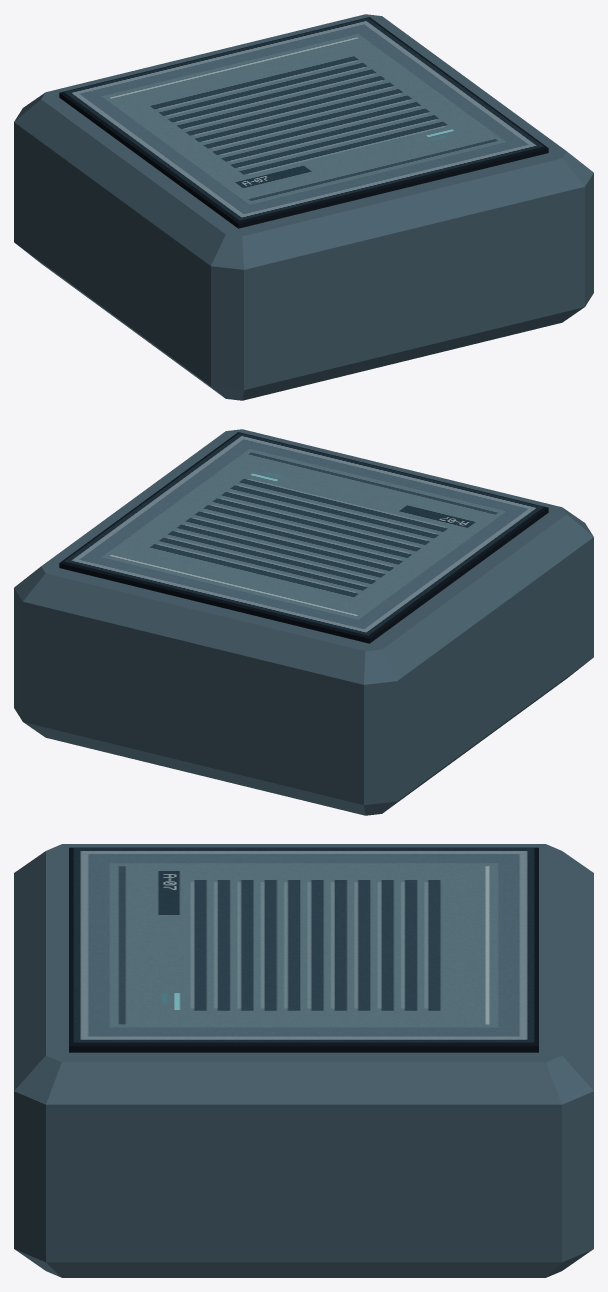
The model's file is service-partition.gltf.
3 views of the same model, one above another, from view 1: azimuth 30°, elevation 25°; view 2: azimuth 150°, elevation 25°; view 3: azimuth 270°, elevation 25° (orthographic). The views are drawn at different scales.
Visible parts, largest first — view 1: partition; view 2: partition; view 3: partition.
Part boxes in pixels (x1=…): partition: x1=14, y1=14, x2=593, y2=400; partition: x1=14, y1=429, x2=593, y2=815; partition: x1=14, y1=844, x2=593, y2=1277.
Bounding box in the file's own units: 1 × 0.425 × 1.
Materials: 2 (1 with a texture image).
